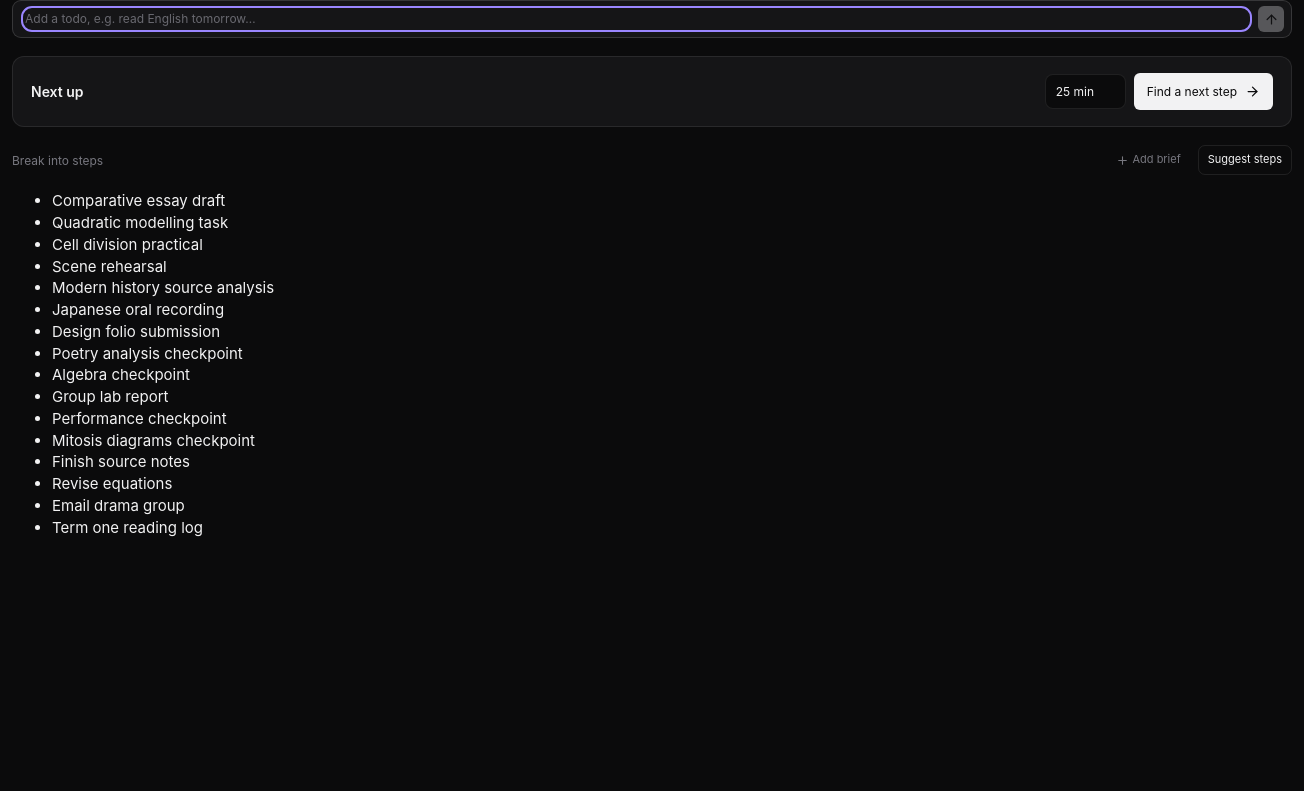
AI demo review flows › previews and edits a natural todo before saving with no network requests
This screenshot has width=1304, height=791.
Type "Finish my English draft tomorrow at 5pm, high priority" into the field named "What needs doing?" at point(636, 19), box x1=25 y1=10 x2=1248 y2=28
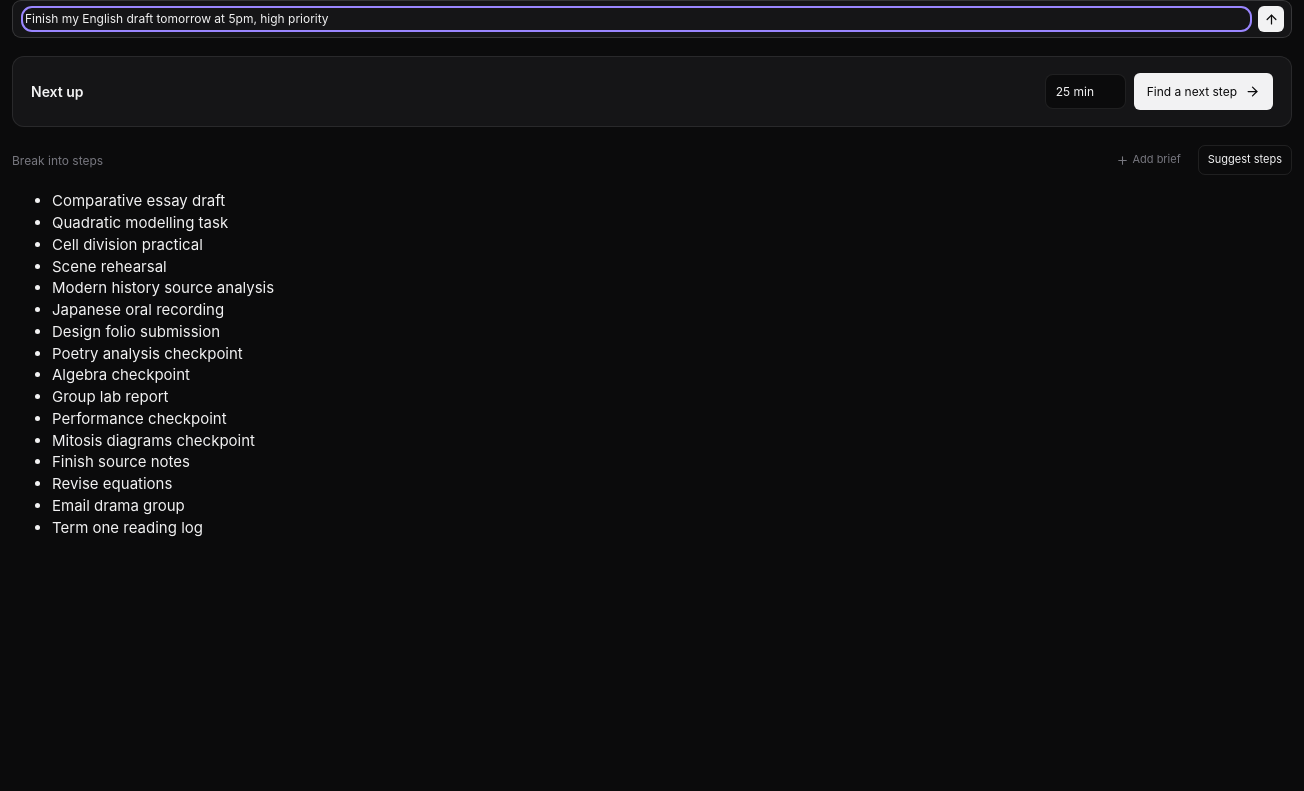
Click the button named "Preview todo" at point(1271, 19), box x1=1258 y1=6 x2=1284 y2=32
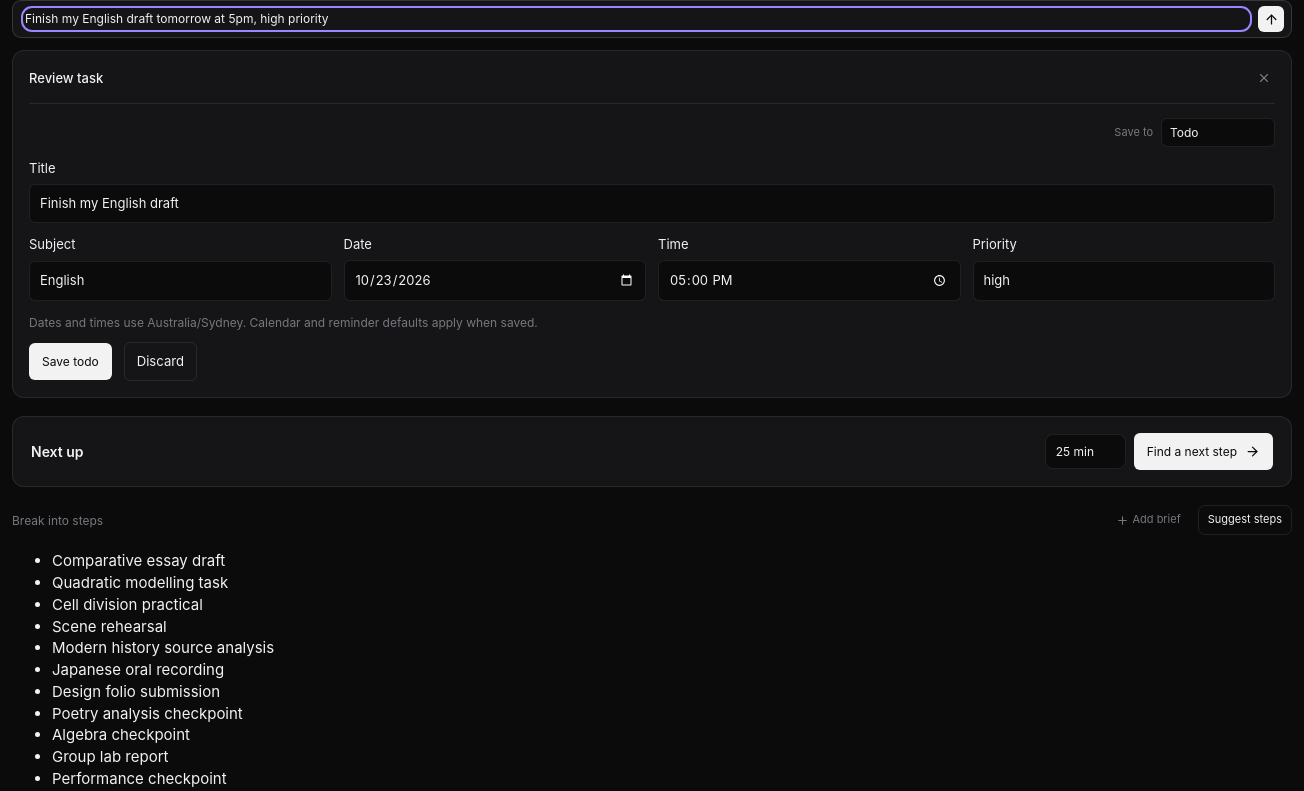
Expected: the time field labelled "Time" holds "17:00", x1=658 y1=260 x2=960 y2=301
Replace the text in the field labelled "Title" with "My edited English draft" at point(652, 204), box x1=29 y1=184 x2=1275 y2=223
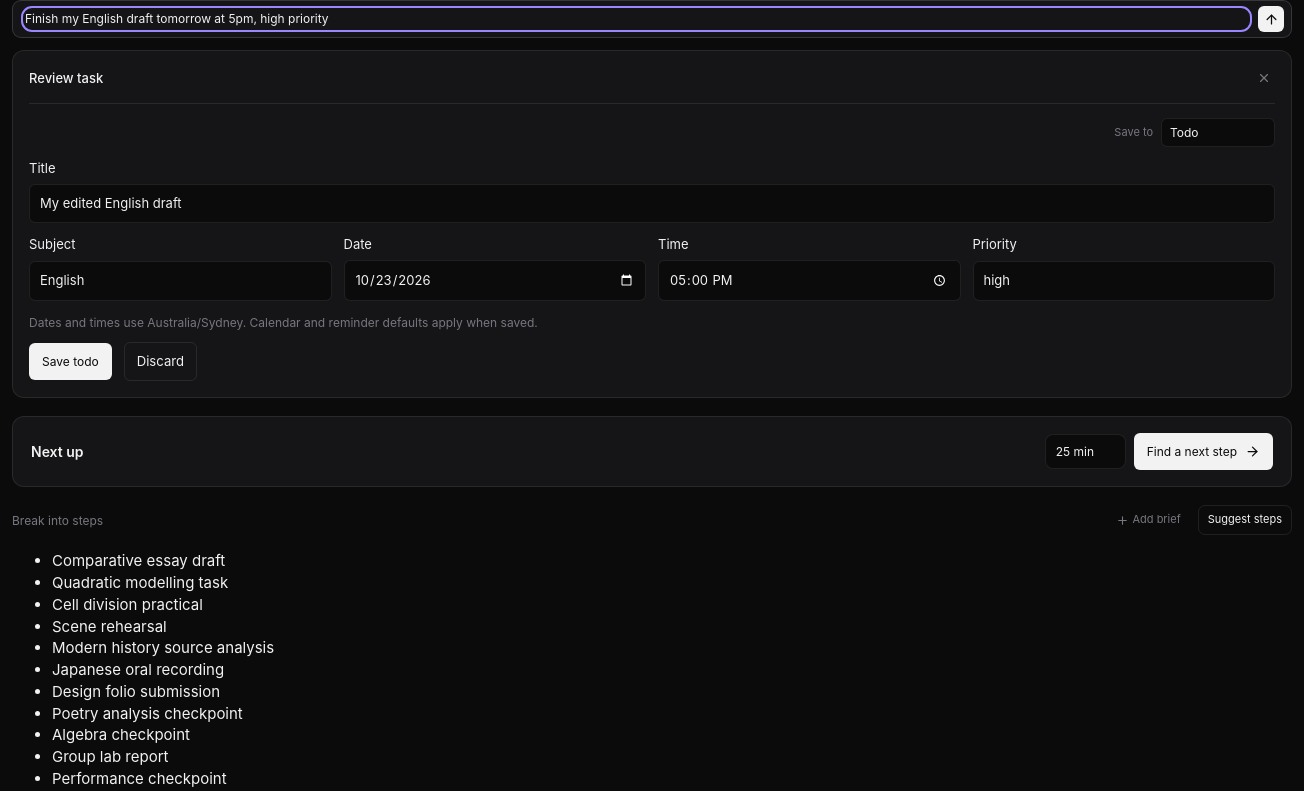
Click the button "Save todo" at point(70, 362), box x1=29 y1=343 x2=112 y2=380
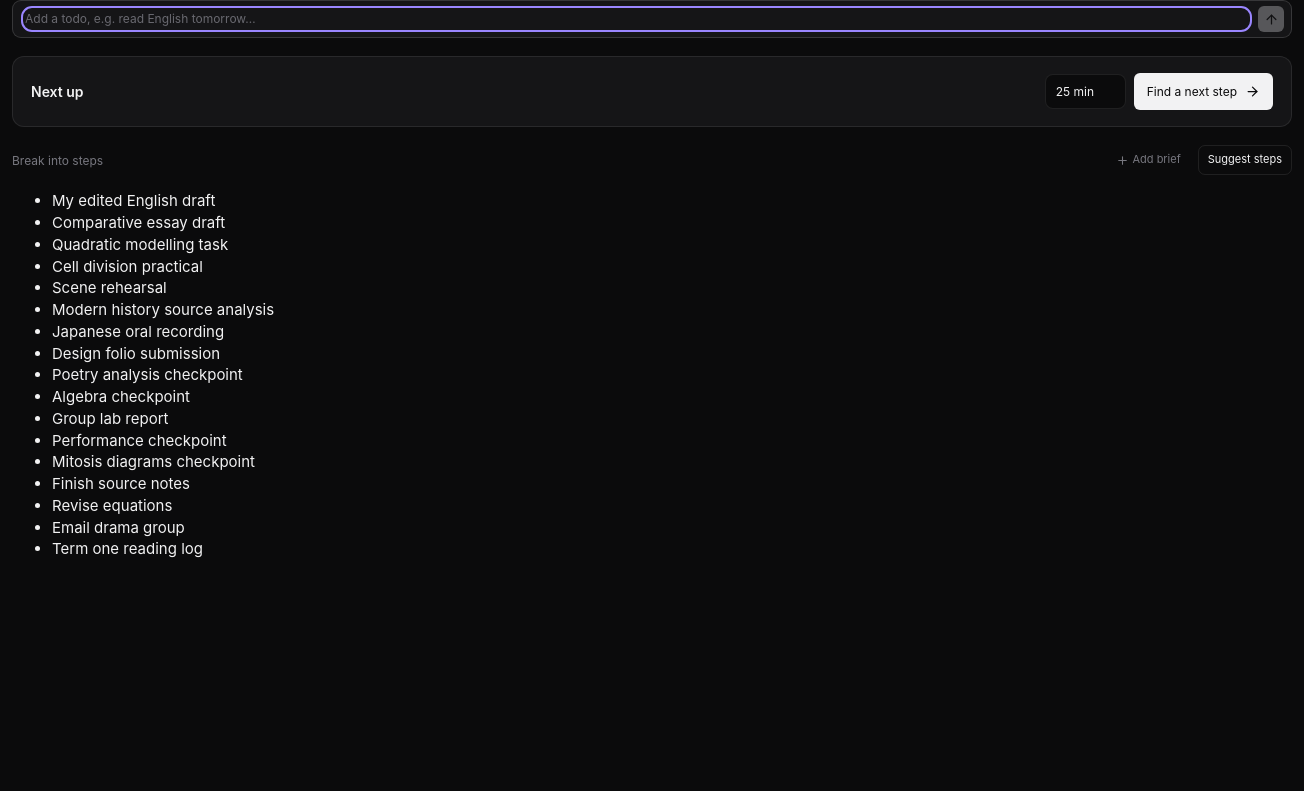
Expected: the list named "Saved demo tasks" shows "My edited English draft", x1=52 y1=191 x2=215 y2=210
